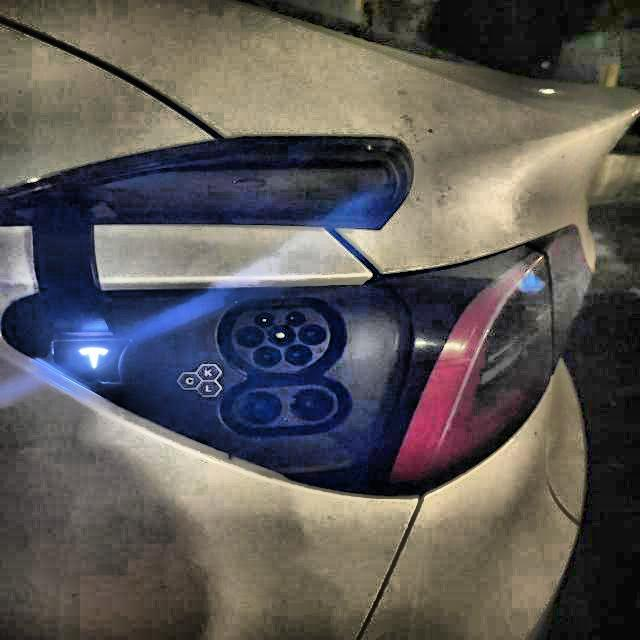inlet: (232, 308, 331, 373)
inlet-above-left: (255, 313, 274, 327)
inlet-above-right: (285, 311, 306, 327)
inlet-below-left: (252, 345, 282, 368)
inlet-below-right: (283, 344, 313, 366)
inlet-center: (267, 325, 296, 347)
inlet-center-left: (235, 326, 265, 348)
inlet-center-right: (298, 324, 327, 345)
